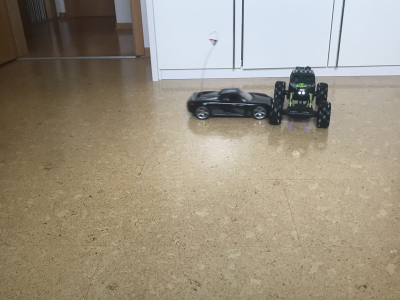remote control car: (270, 62, 332, 130)
